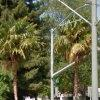Palm tree: (2, 13, 38, 98)
